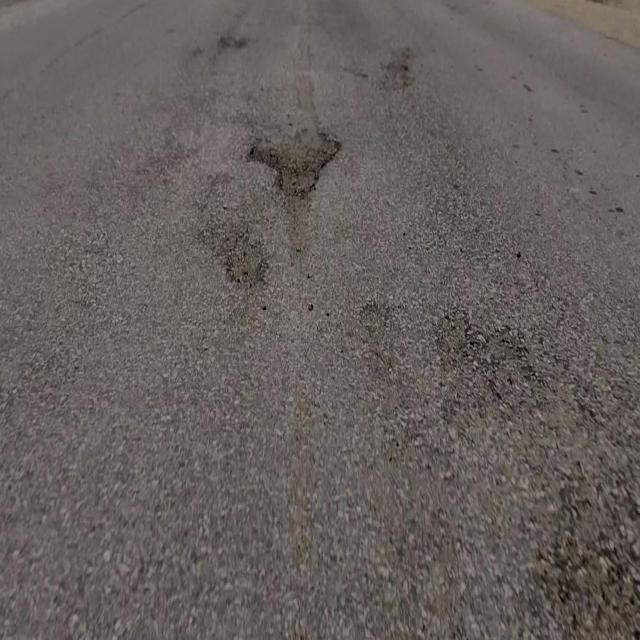Potholes: (242, 117, 342, 198), (224, 226, 266, 285)
